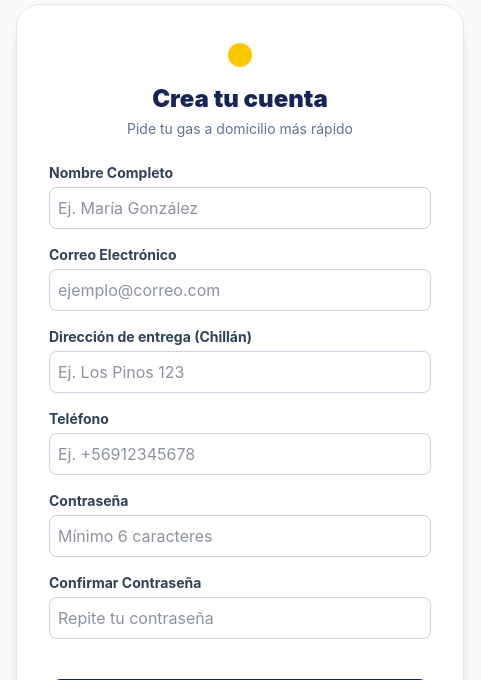
Registro › rechaza contraseñas que no coinciden
Type "Pedro Soto" into the field labelled "Nombre Completo".
click(240, 208); type("Pedro Soto")  # box [49, 187, 431, 229]
Type "pedro@example.com" into the field labelled "Correo Electrónico".
click(240, 290); type("pedro@example.com")  # box [49, 269, 431, 311]
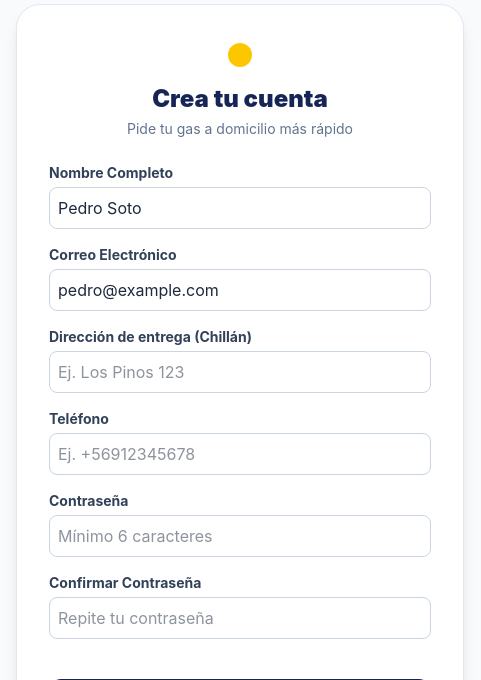
Type "Los Robles 45" into the field labelled "Dirección de entrega (Chillán)".
click(240, 372); type("Los Robles 45")  # box [49, 351, 431, 393]
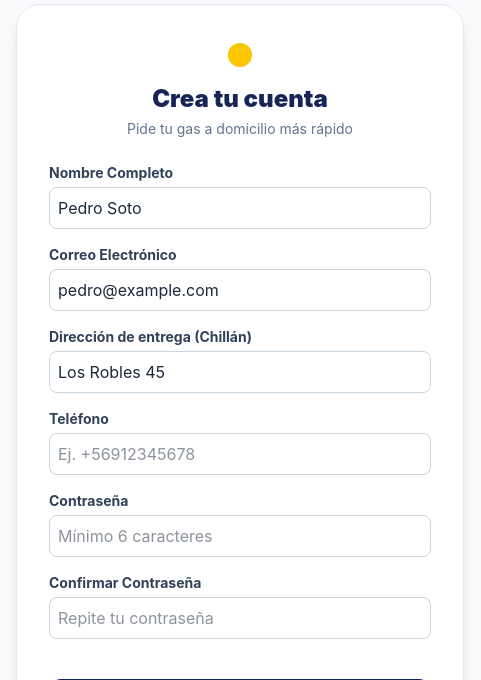
Type "+56911112222" into the field labelled "Teléfono".
click(240, 454); type("+56911112222")  # box [49, 433, 431, 475]
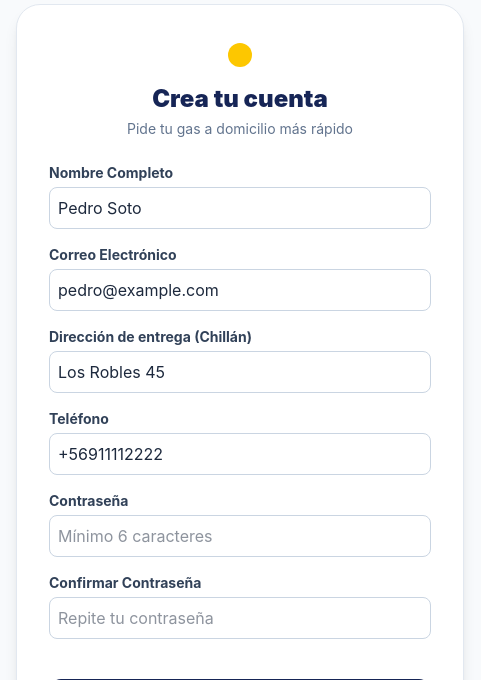
Type "secreto1" into the password field labelled "Contraseña".
click(240, 536); type("secreto1")  # box [49, 515, 431, 557]
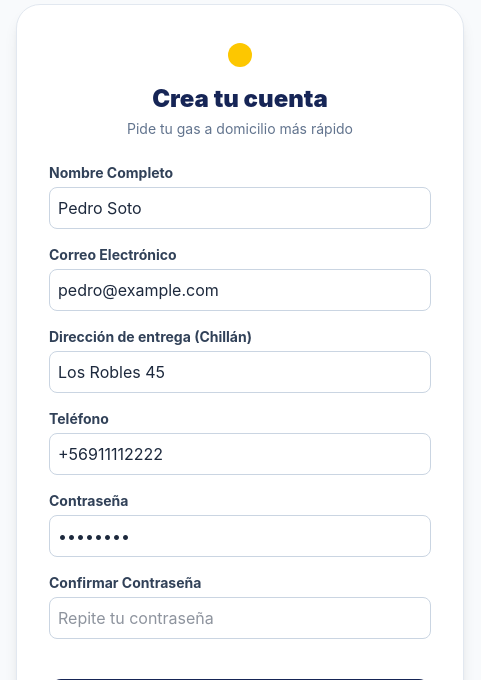
Type "otraClave1" into the password field labelled "Confirmar Contraseña".
click(240, 618); type("otraClave1")  # box [49, 597, 431, 639]
(page scrolled)
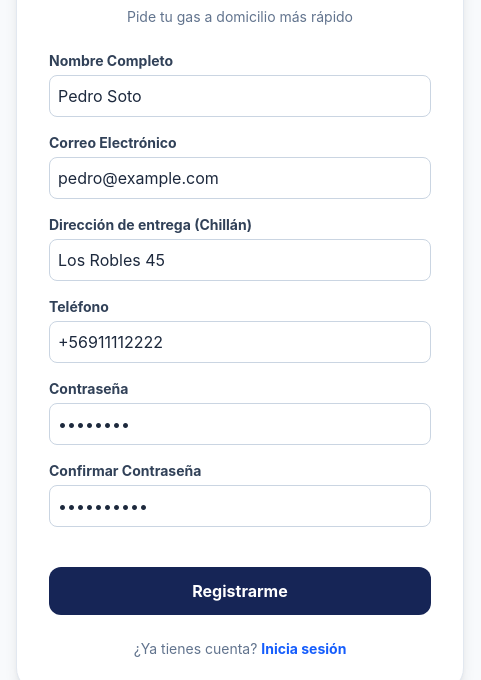
Click the button "Registrarme".
click(240, 591)  # box [49, 567, 431, 615]
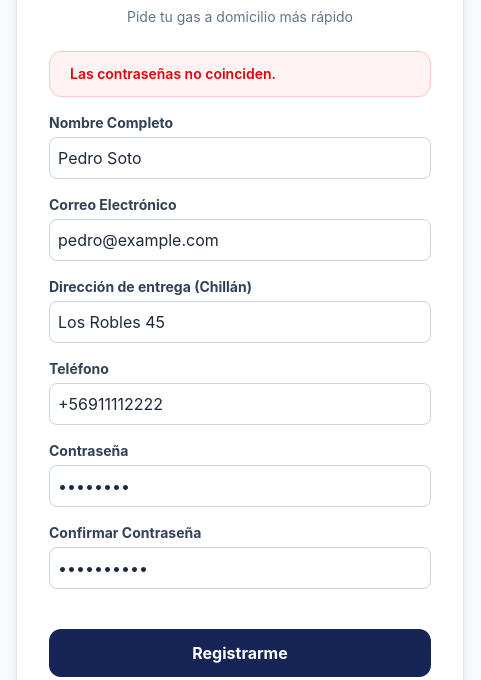
Now the text "Las contraseñas no coinciden." is shown, box [70, 64, 276, 84]
